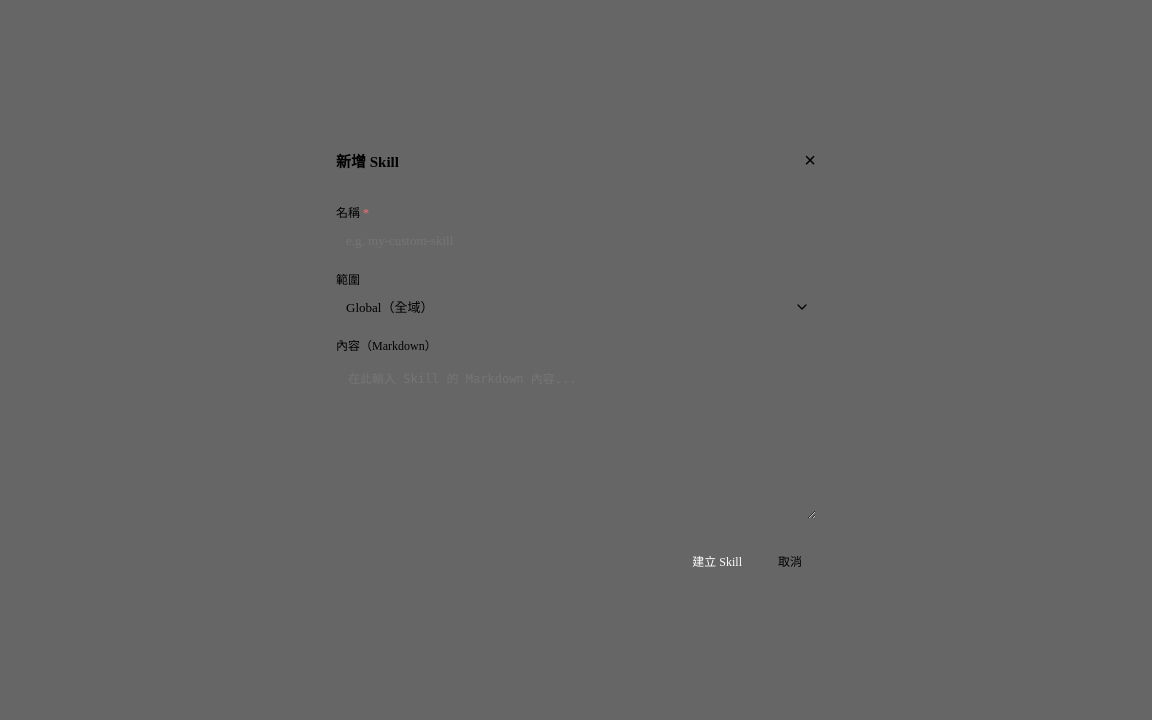
Test: SkillCreateModal › validation › 空名稱送出時顯示 inline error，不觸發 IPC
This screenshot has width=1152, height=720.
Click the button "建立 Skill" at x=717, y=560, box [678,546,756,574]
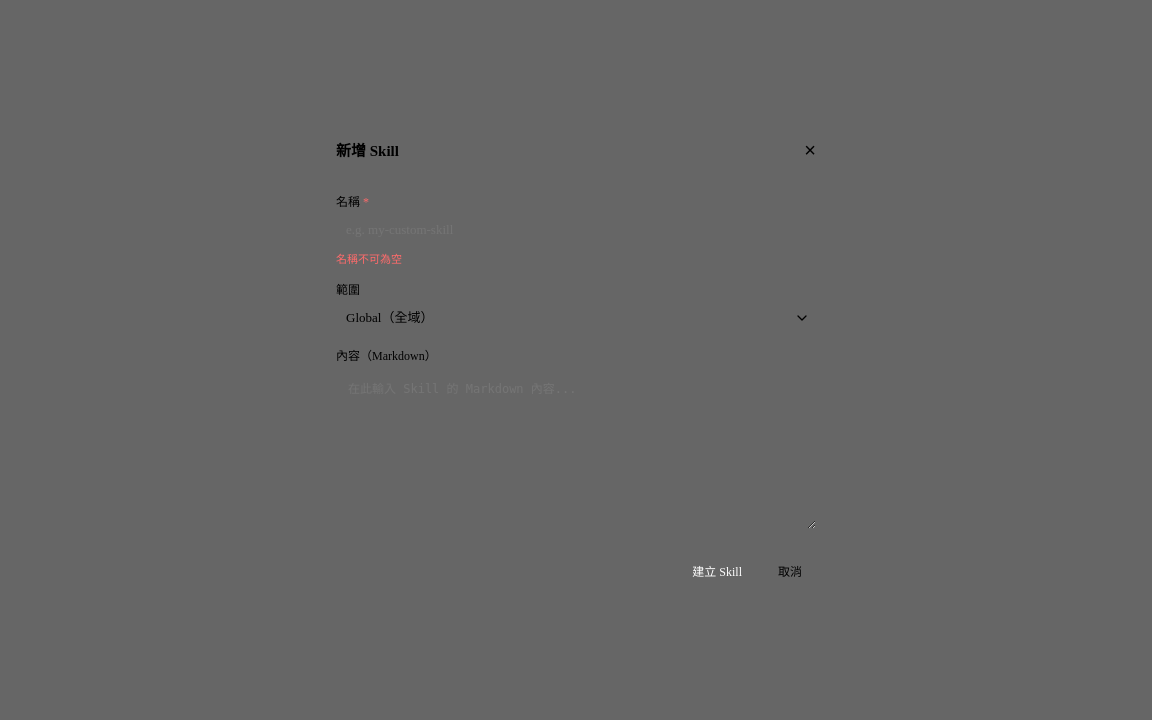
Expected: the text with class "field-error" shows "不可為空", [336,253,402,265]
